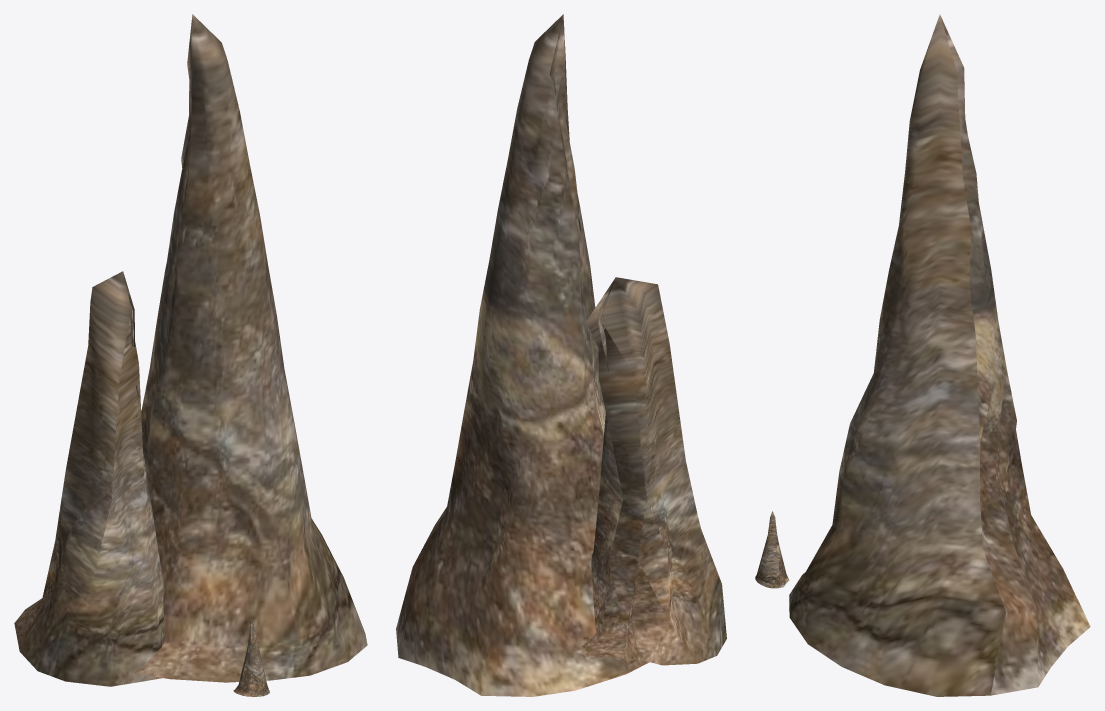
The model's file is stalagmiteTextured.fbx.
3 renders of one model, left to right at view 1: azimuth 30°, elevation 25°; view 2: azimuth 150°, elevation 25°; view 3: azimuth 270°, elevation 25°, orthographic. The views are drawn at different scales.
Parts seen in each view (by area): view 1: pCone4; view 2: pCone4; view 3: pCone4.
Boxes of the visible parts, x1,y1,x2,y2 form: pCone4: [14, 14, 367, 696]; pCone4: [396, 14, 726, 696]; pCone4: [755, 14, 1090, 696].
Bounding box in the file's own units: 123 × 249 × 122.
Materials: 1 (1 with a texture image).
